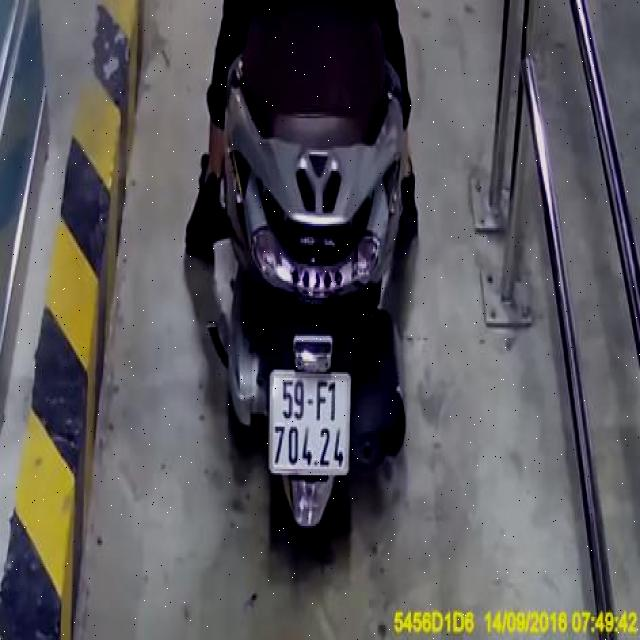0: (285, 424, 299, 468)
1: (327, 378, 339, 424)
2: (316, 425, 334, 471)
4: (333, 425, 345, 472), (301, 425, 313, 471)
5: (280, 376, 294, 422)
7: (272, 421, 284, 466)
9: (292, 378, 307, 423)
F: (315, 376, 328, 426)
